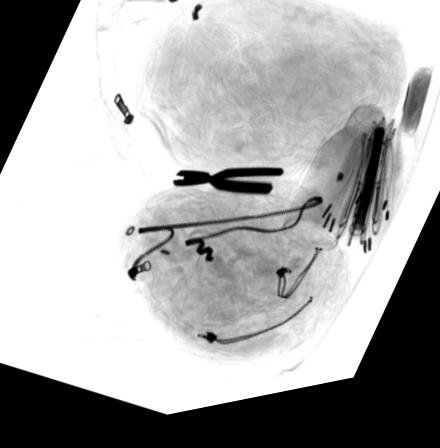Pliers: (171, 176, 285, 207)
